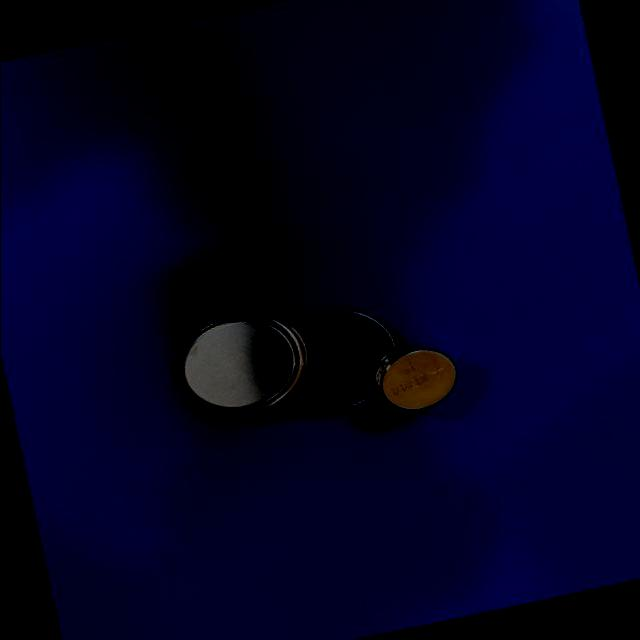COIN: (162, 296, 316, 426), (260, 296, 408, 423), (366, 338, 468, 422)
